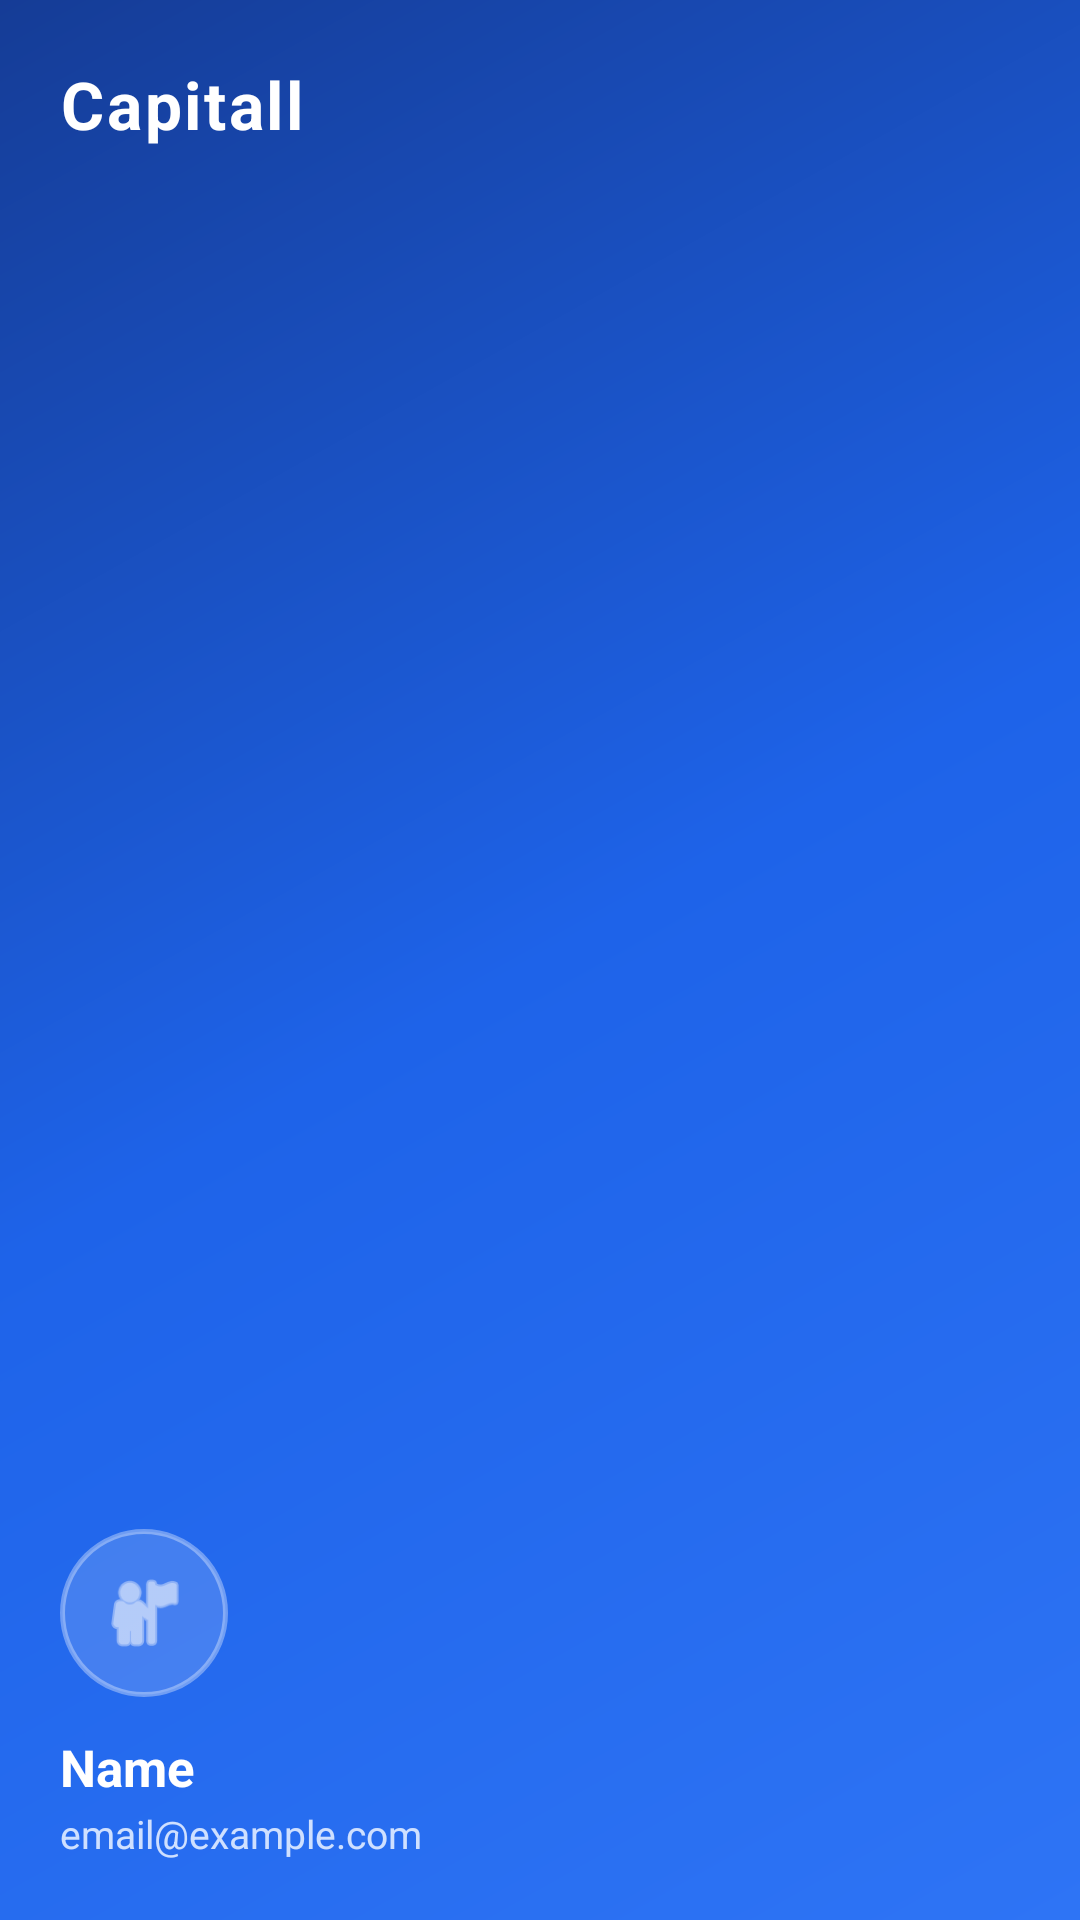

Locate icon controls on the screen. Image size 1080 × 1920, boxes as (x1, y1, x2, y2).
myplaces: (111, 1579, 179, 1647)
